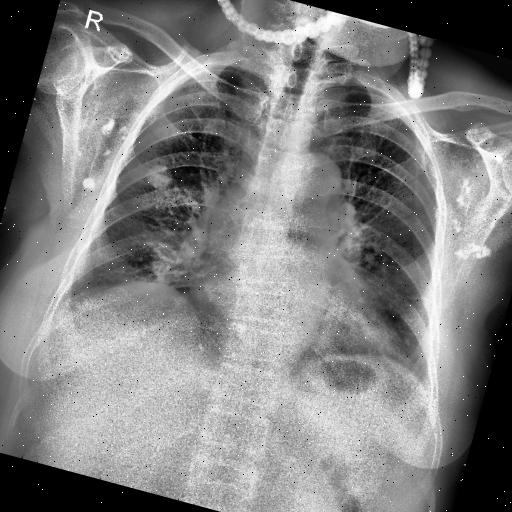0- Aortic enlargement: (274, 147, 356, 228), (275, 148, 346, 208), (280, 144, 348, 206)
11- Pleural thickening: (420, 150, 442, 178)
2- Calcification: (436, 158, 512, 265), (95, 114, 129, 158), (80, 176, 98, 190)
3- Cardiomegaly: (184, 234, 419, 368), (175, 271, 411, 388), (178, 265, 417, 369)
8- Nodule-Mass: (140, 160, 175, 190), (142, 161, 176, 191), (146, 162, 174, 190)
9- Other lesion: (435, 144, 512, 269), (432, 169, 512, 268), (66, 106, 134, 196), (64, 112, 126, 197)
